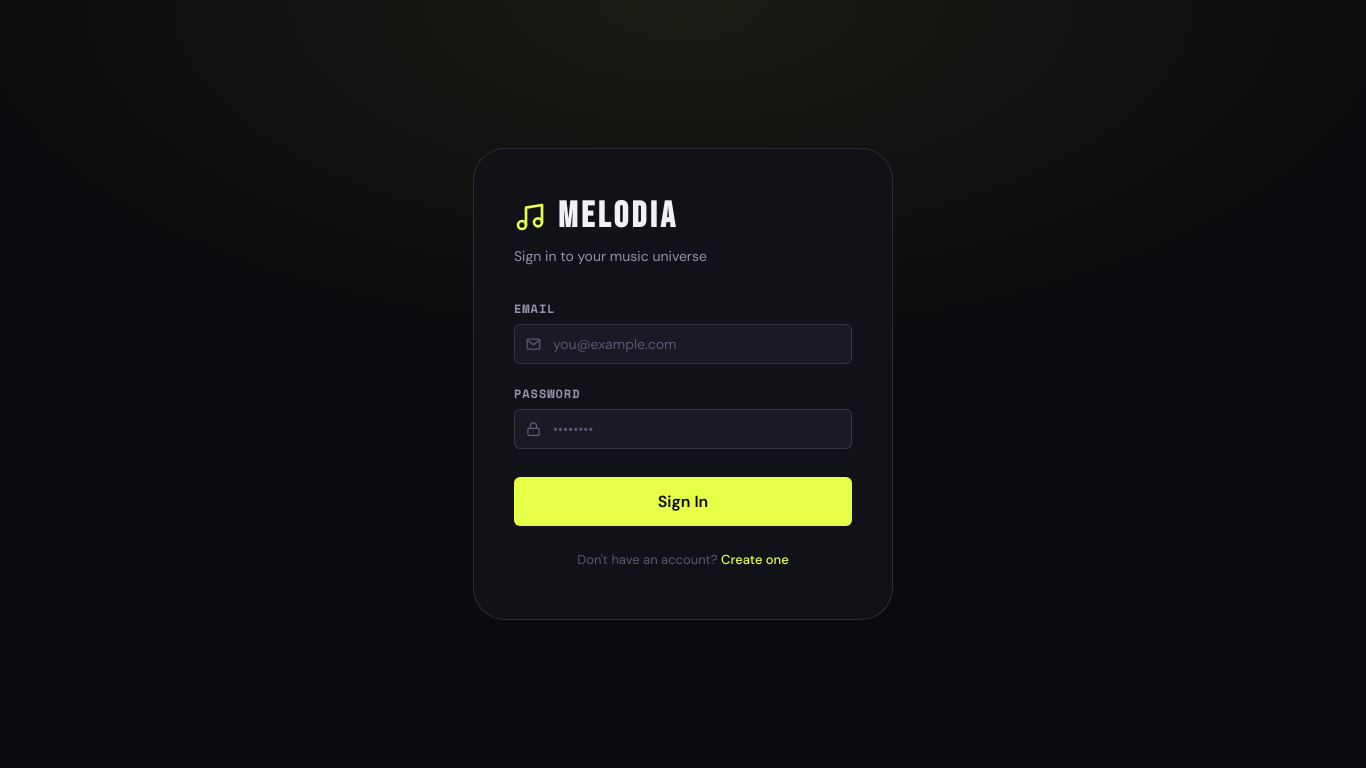
Scenario: Authentication Flow › Login › shows error toast on wrong credentials
Type "wrong@test.com" into the field named "email" at (683, 344), box [514, 324, 852, 364]
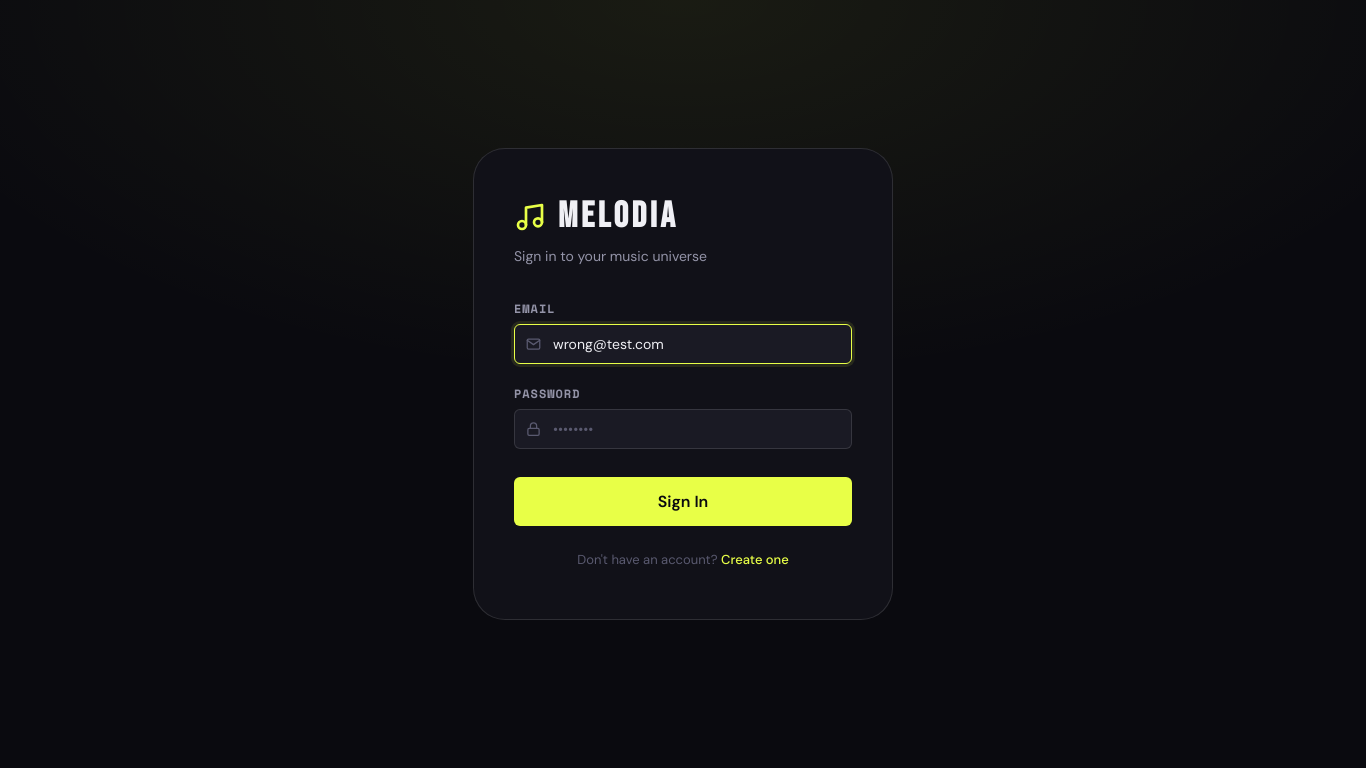
Type "wrongpassword" into the password field named "password" at (683, 429), box [514, 409, 852, 449]
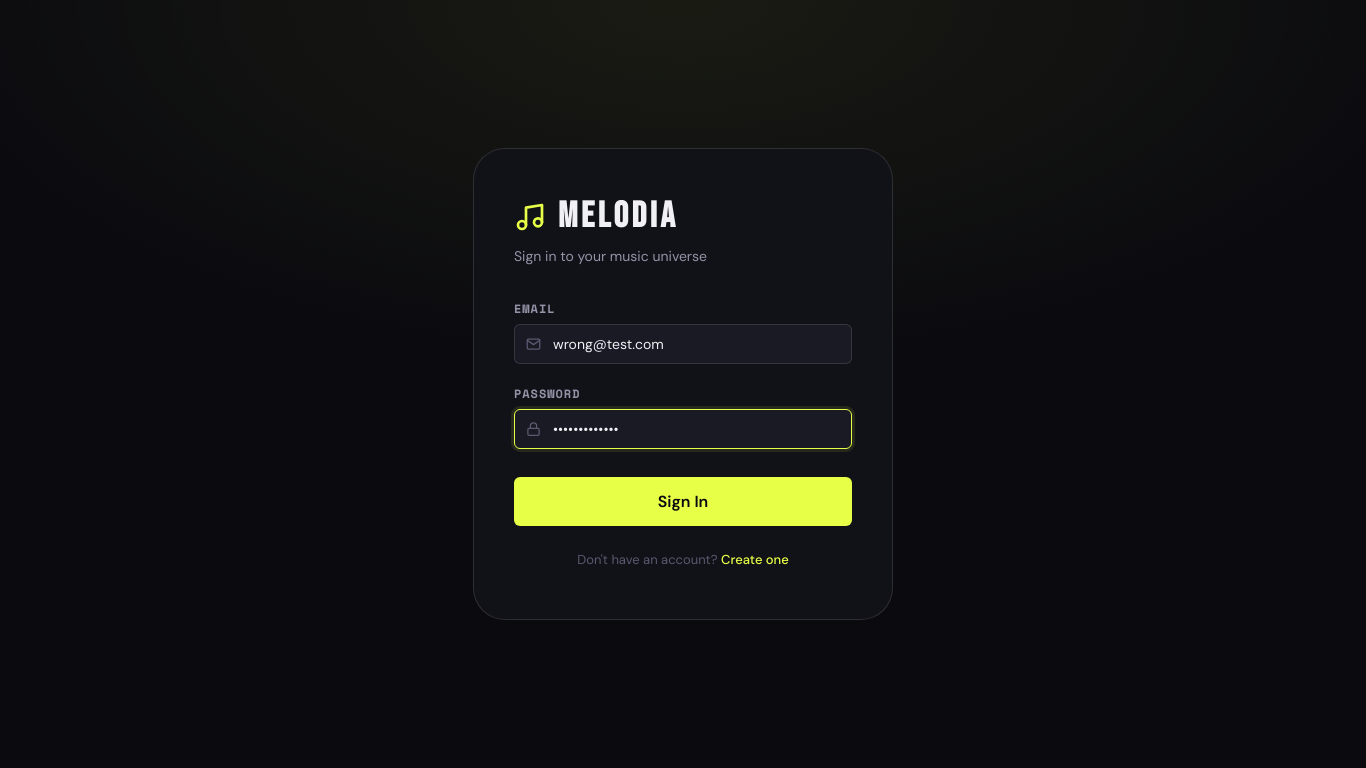
Expected: the submit button is enabled
Click the submit button at (683, 502), box [514, 477, 852, 526]
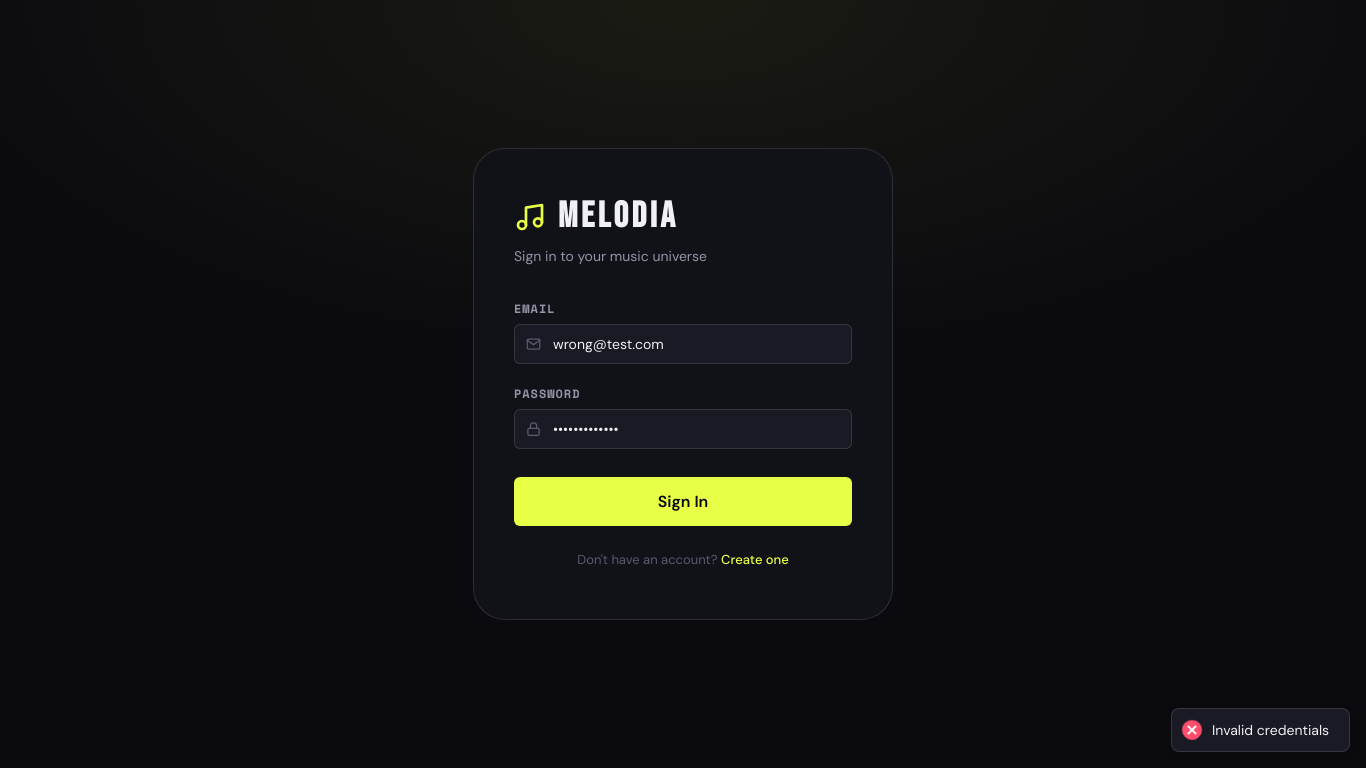
Now the message "Invalid credentials" is shown, box [1212, 721, 1329, 739]
